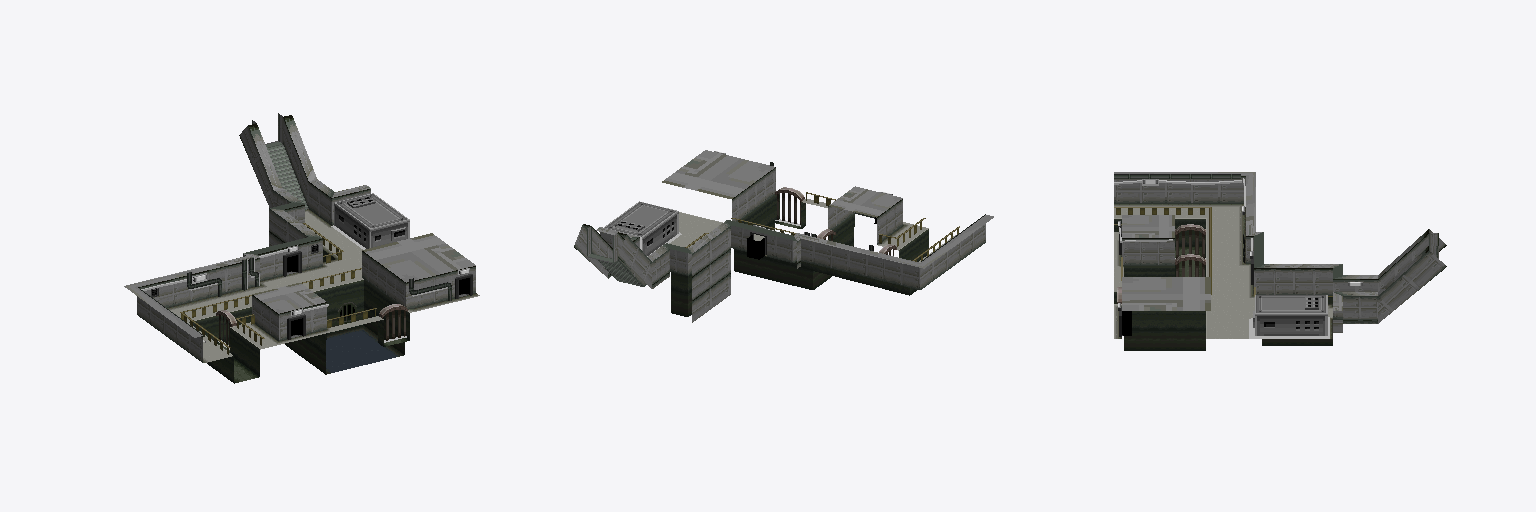
3 views of the same model, side by side, from view 1: azimuth 30°, elevation 25°; view 2: azimuth 150°, elevation 25°; view 3: azimuth 270°, elevation 25° (orthographic).
Visible parts, largest first — view 1: polygon1, polygon4, polygon9, polygon23, polygon3, polygon11, polygon2, polygon0, polygon8, polygon10, polygon25, polygon14; view 2: polygon1, polygon4, polygon2, polygon23, polygon9, polygon14, polygon11, polygon10; view 3: polygon1, polygon9, polygon23, polygon4, polygon2, polygon0, polygon14, polygon25, polygon11.
Boxes of the visible parts, x1,y1,x2,y2 form: polygon1: [124, 113, 475, 362]; polygon4: [189, 250, 409, 382]; polygon9: [171, 212, 383, 361]; polygon23: [334, 193, 409, 248]; polygon3: [326, 332, 395, 372]; polygon11: [180, 223, 376, 354]; polygon2: [285, 306, 404, 374]; polygon0: [167, 209, 479, 362]; polygon8: [283, 251, 472, 339]; polygon10: [265, 141, 308, 209]; polygon25: [140, 258, 451, 336]; polygon14: [216, 304, 407, 346]; polygon1: [574, 150, 993, 322]; polygon4: [671, 193, 928, 295]; polygon2: [671, 222, 853, 316]; polygon23: [604, 201, 678, 255]; polygon9: [669, 199, 923, 247]; polygon14: [775, 187, 896, 255]; polygon11: [685, 192, 959, 261]; polygon10: [587, 254, 642, 286]; polygon1: [1114, 172, 1446, 332]; polygon9: [1114, 207, 1332, 338]; polygon23: [1253, 295, 1327, 335]; polygon4: [1114, 219, 1332, 330]; polygon2: [1124, 331, 1332, 350]; polygon0: [1114, 204, 1332, 338]; polygon14: [1117, 224, 1205, 303]; polygon25: [1114, 174, 1244, 262]; polygon11: [1114, 207, 1332, 296].
Bounding box in the file's own units: 8.23 × 3.25 × 8.24.
Materials: 26 (24 with a texture image).